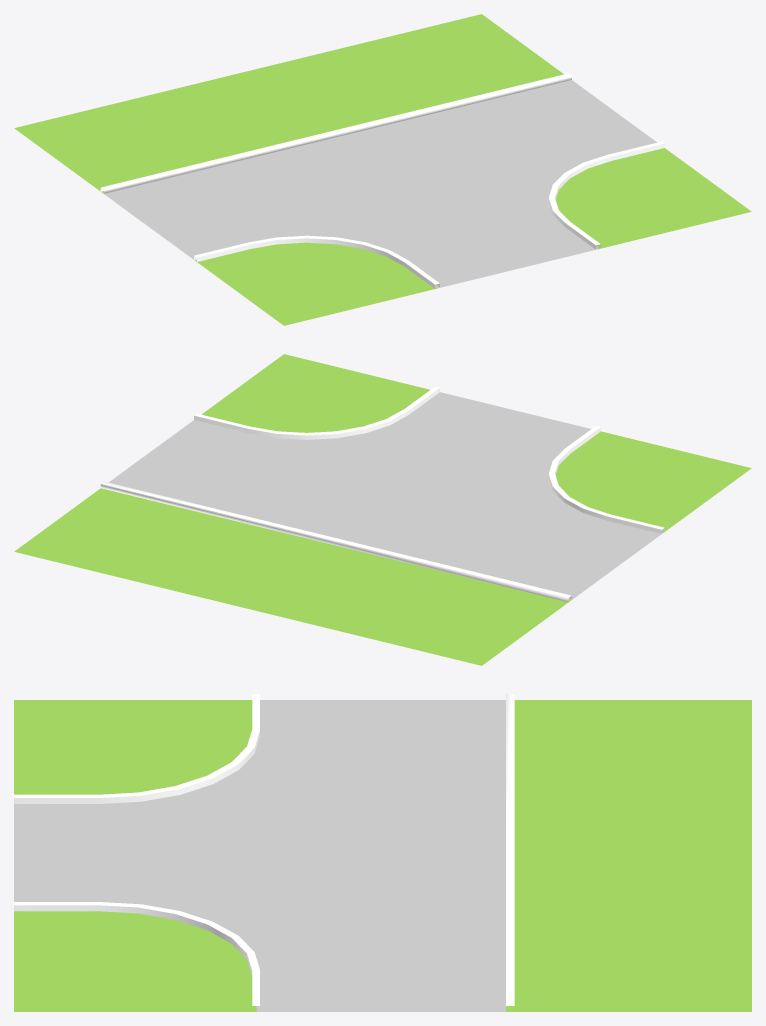
The model's file is Sidewalk_26.glb.
3 views of the same model, one above another, from view 1: azimuth 30°, elevation 25°; view 2: azimuth 150°, elevation 25°; view 3: azimuth 270°, elevation 25° (orthographic). The views are drawn at different scales.
Parts seen in each view (by area): view 1: Sidewalk_26; view 2: Sidewalk_26; view 3: Sidewalk_26.
Boxes of the visible parts, x1,y1,x2,y2 form: Sidewalk_26: [14, 14, 751, 325]; Sidewalk_26: [14, 354, 751, 665]; Sidewalk_26: [14, 694, 751, 1011].
Size of the model in its own units: 15 by 0.1333 by 15.
1 material, 1 textured.
